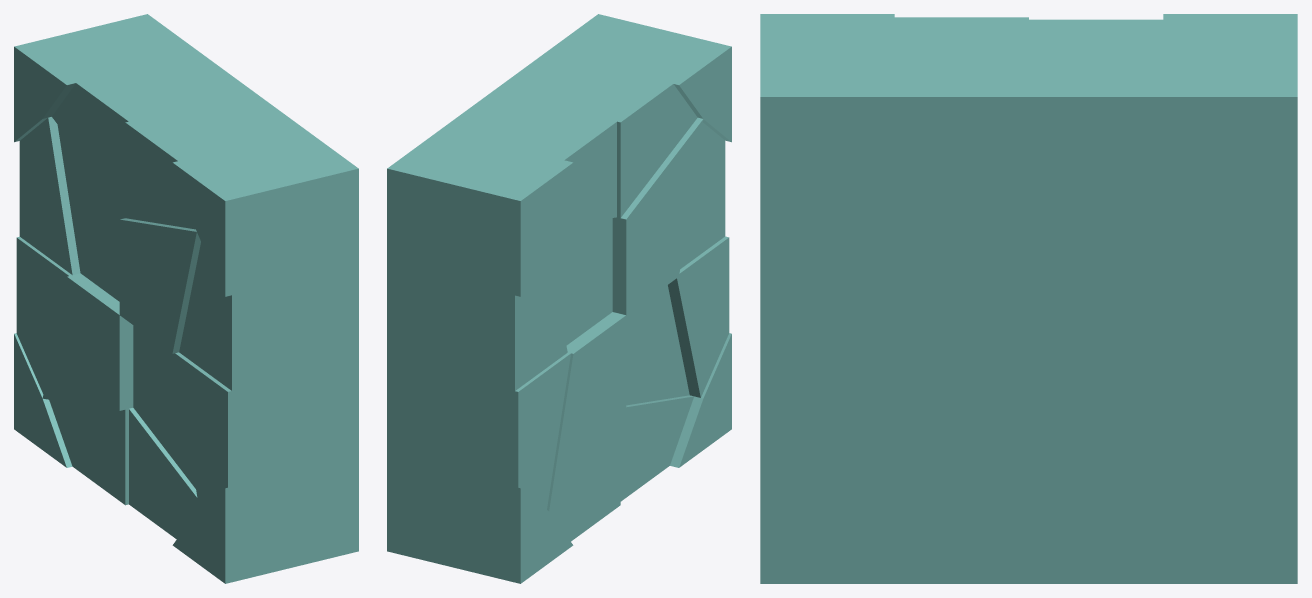
File: EspacioInicialPuertaExteriorNS.gltf
The picture shows the model from 3 angles, left to right: view 1: azimuth 30°, elevation 25°; view 2: azimuth 150°, elevation 25°; view 3: azimuth 270°, elevation 25°; orthographic projection. The views are drawn at different scales.
Visible parts, largest first — view 1: Pared puerta Ns.5; view 2: Pared puerta Ns.5; view 3: Pared puerta Ns.5.
Part boxes in pixels (box(x1,y1,x2,y2)): Pared puerta Ns.5: box(14, 14, 358, 583); Pared puerta Ns.5: box(387, 14, 731, 583); Pared puerta Ns.5: box(760, 14, 1297, 583).
Size of the model in its own units: 0.73 by 2 by 2.
